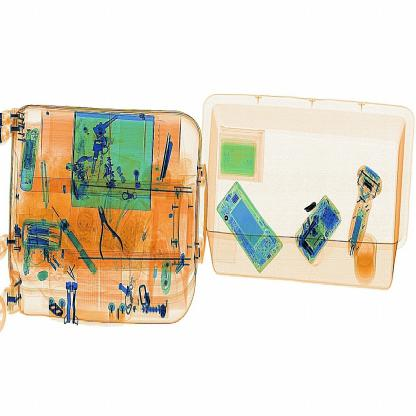knife: (292, 182, 320, 218)
